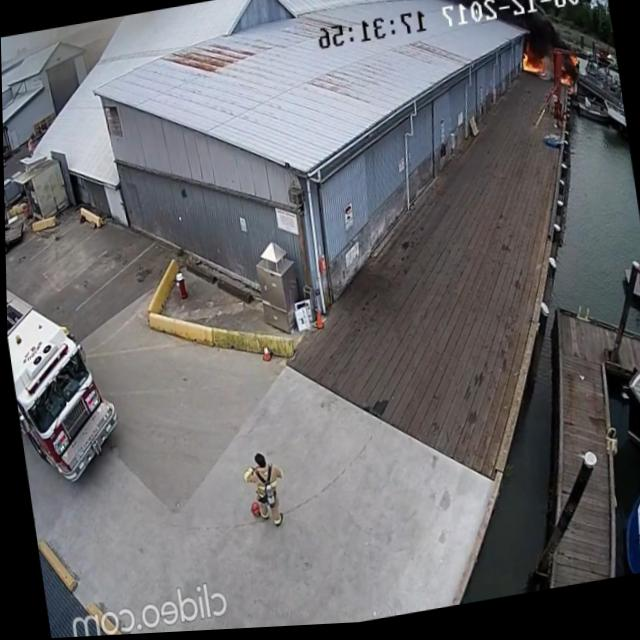fire: (554, 56, 584, 98), (515, 55, 550, 86)
